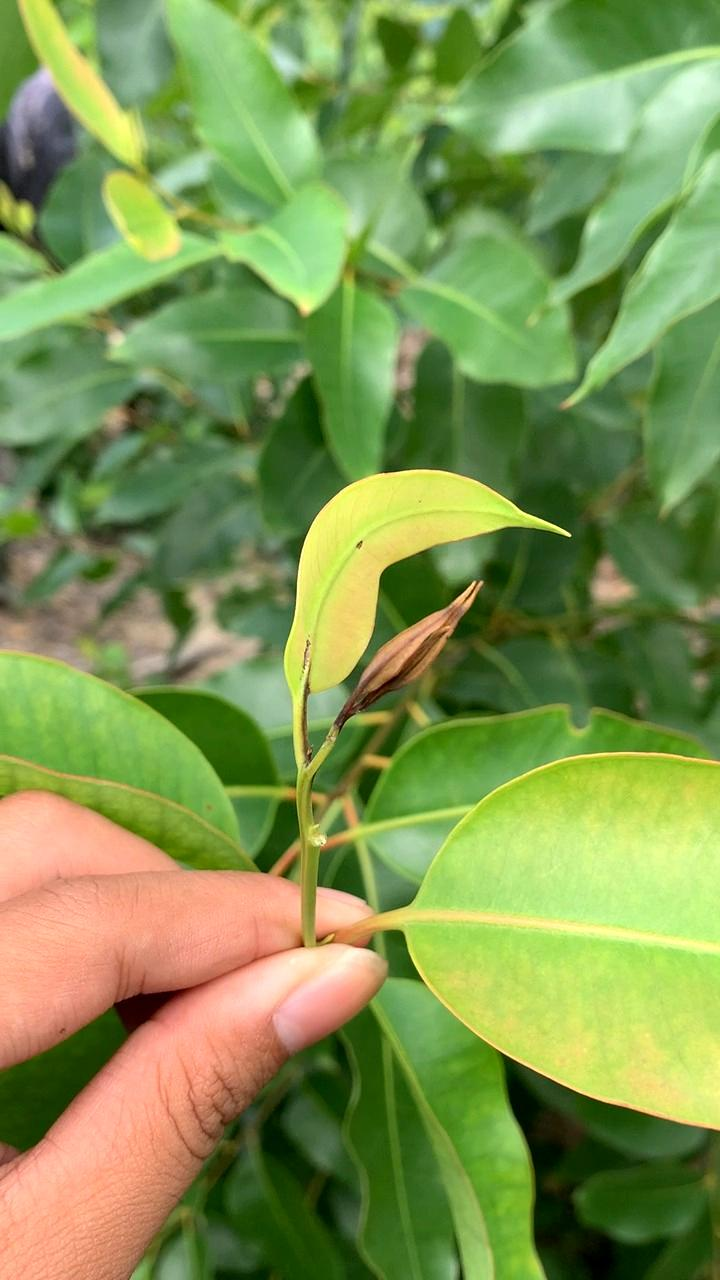Helopeltis-Withered Sprout: (340, 586, 489, 715)
